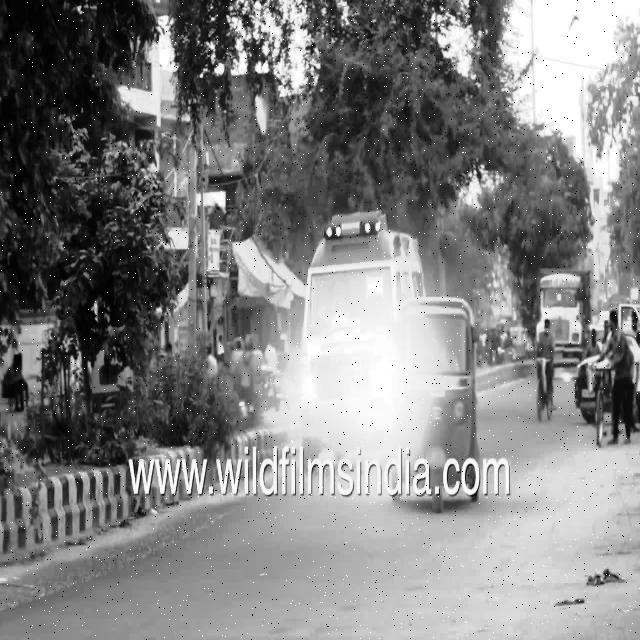Ambulance: (298, 205, 427, 475)
